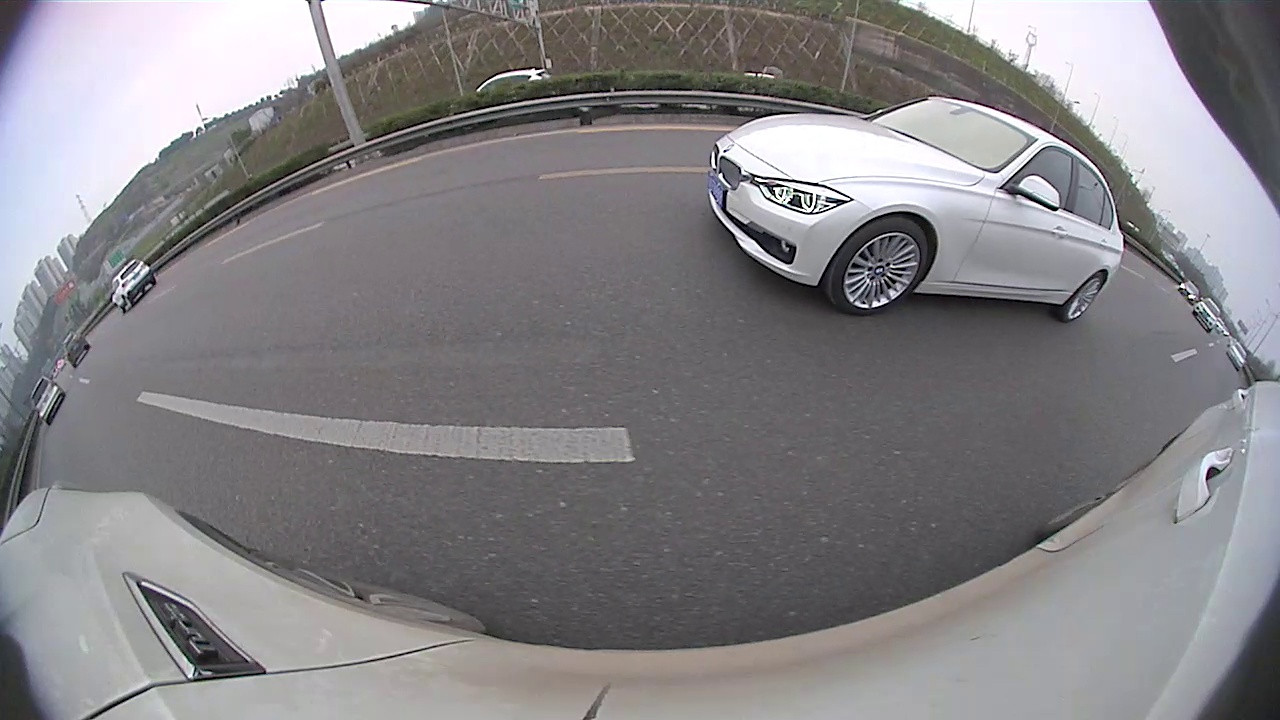car: (958, 220, 1279, 467), (336, 149, 521, 255), (599, 136, 705, 215), (837, 173, 910, 213), (708, 152, 770, 194), (557, 161, 601, 189), (765, 164, 805, 192)
front: (986, 261, 1058, 338), (509, 188, 522, 215), (838, 188, 847, 201)
rear: (452, 202, 474, 240), (722, 173, 730, 193), (870, 193, 877, 206)
